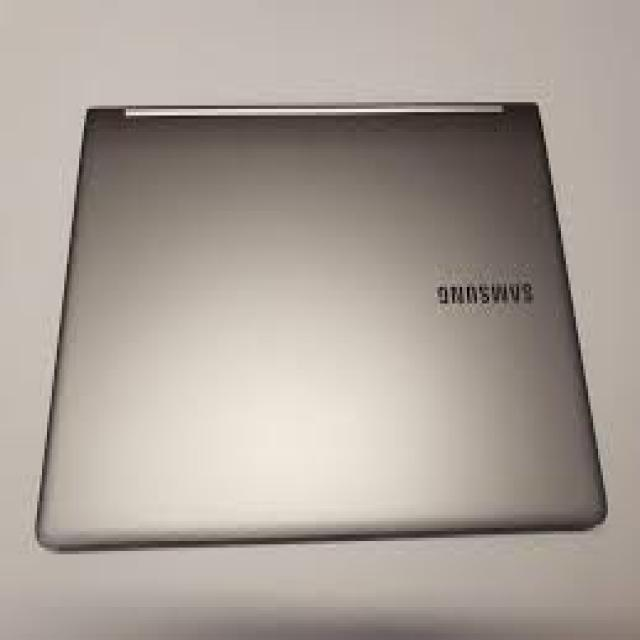laptop: (35, 101, 608, 550)
